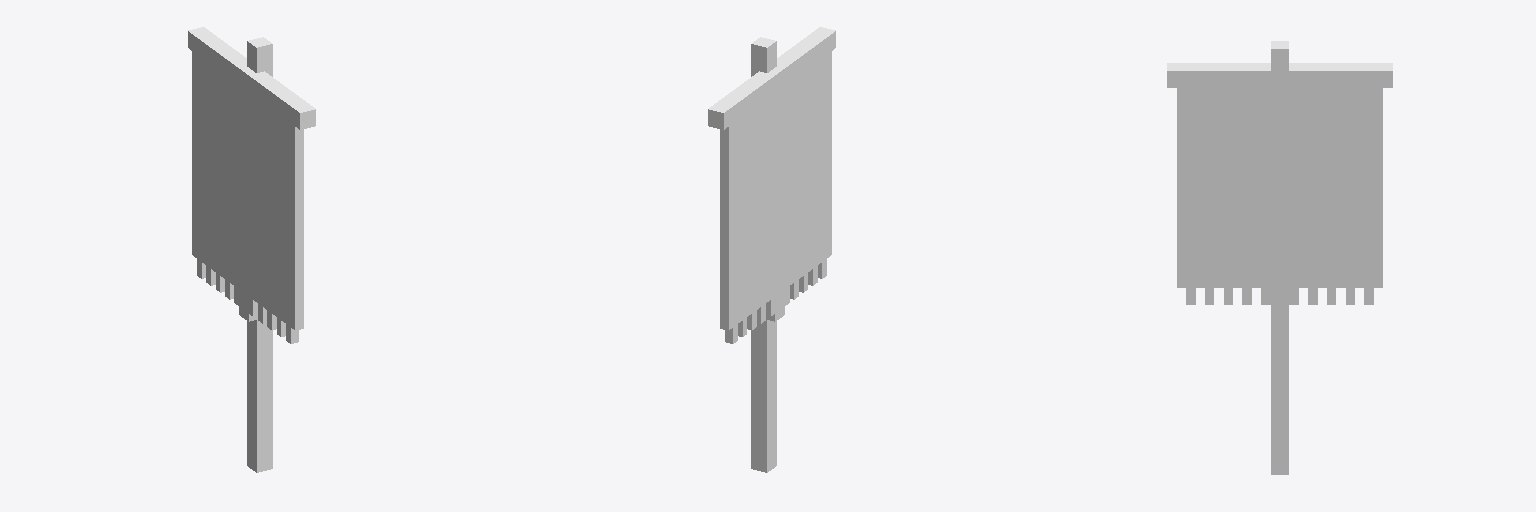
Rendered from TVS_VoxelKnights_Banner.obj.
3 views of the same model, side by side, from view 1: azimuth 30°, elevation 25°; view 2: azimuth 150°, elevation 25°; view 3: azimuth 270°, elevation 25° (orthographic).
Visible parts, largest first — view 1: ObjObject.021; view 2: ObjObject.021; view 3: ObjObject.021.
Part boxes in pixels (x1,y1,x2,y2): ObjObject.021: (188, 27, 315, 472); ObjObject.021: (708, 27, 835, 472); ObjObject.021: (1167, 41, 1392, 474).
Size of the model in its own units: 0.3 by 5 by 2.4.